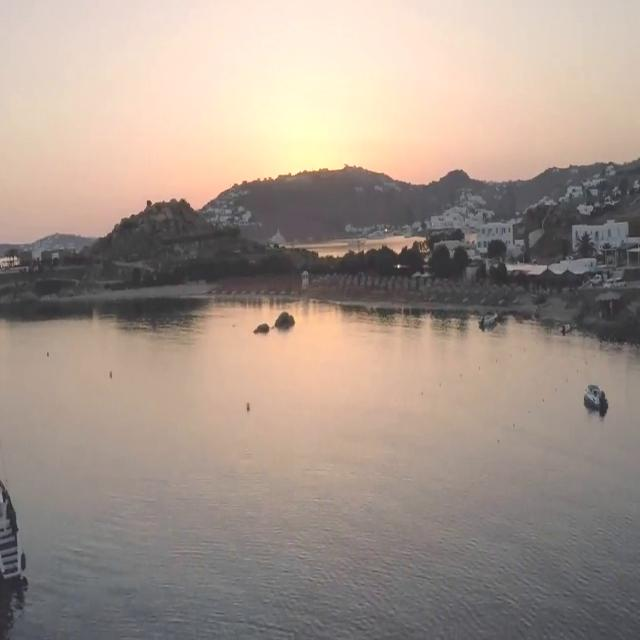ship: (584, 384, 610, 416)
